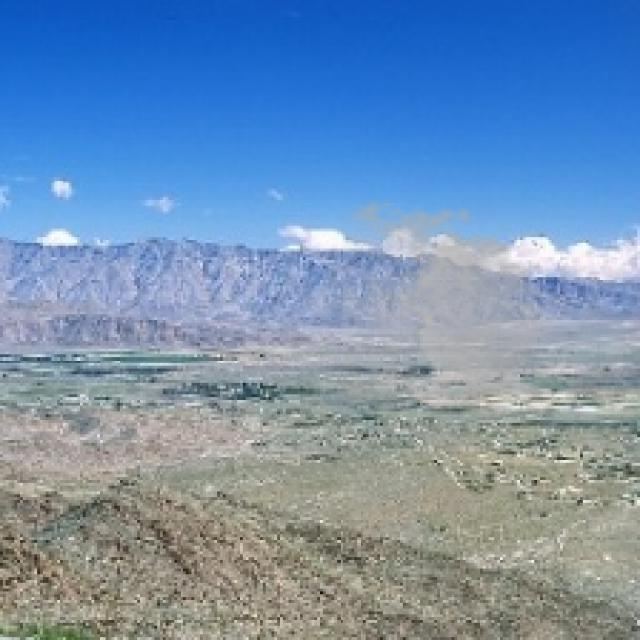Smoke: (323, 194, 560, 414)
